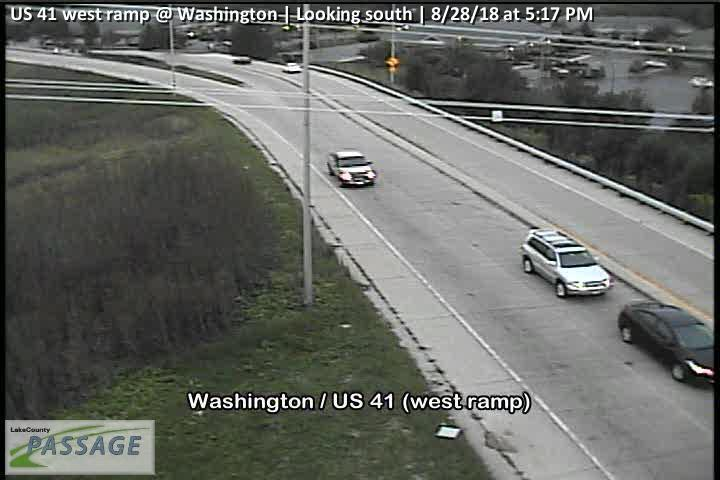SUV: (518, 228, 611, 298), (688, 73, 715, 88)
Sedan: (618, 302, 714, 385), (327, 150, 377, 187), (281, 62, 301, 73)
